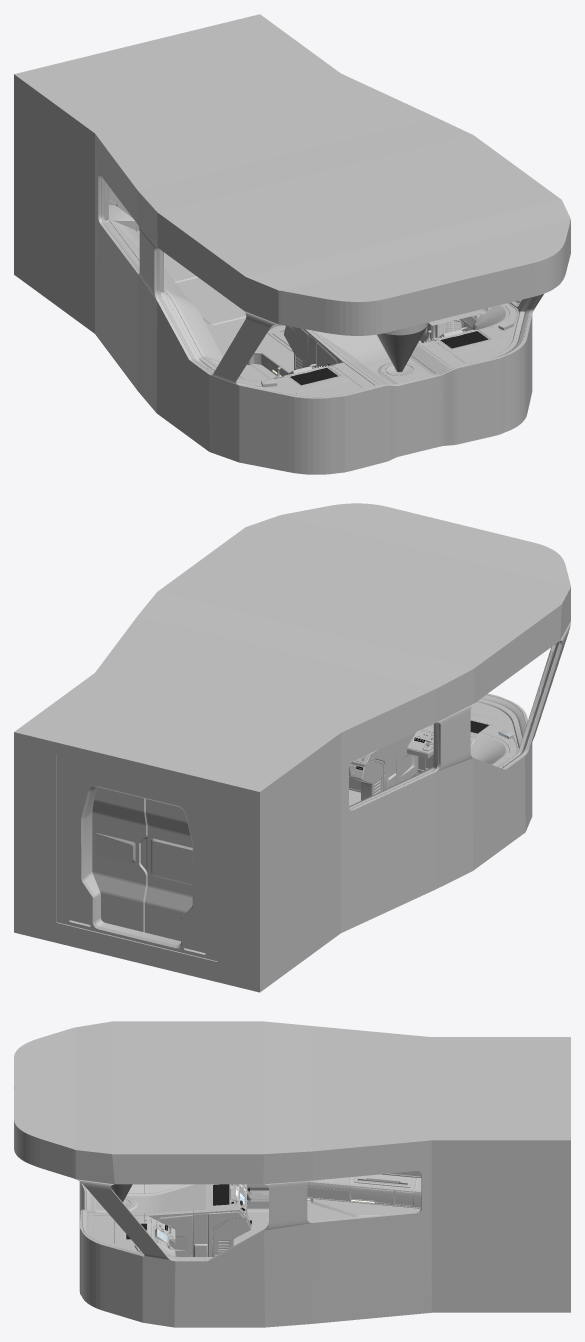
File: VA_Scifi_Cockpit_6.FBX
The picture shows the model from 3 angles, top to bottom: view 1: azimuth 30°, elevation 25°; view 2: azimuth 150°, elevation 25°; view 3: azimuth 270°, elevation 25°; orthographic projection. The views are drawn at different scales.
Visible parts, largest first — view 1: VA_Cockpit6_Body1, VA_Cockpit6_Body2, ProjectorBeam; view 2: VA_Cockpit6_Body1, DoorLeft, DoorRight, VA_Cockpit6_Body2; view 3: VA_Cockpit6_Body1, VA_Cockpit6_Body2, VA_CentralDisplay.
Boxes of the visible parts, x1=… form: VA_Cockpit6_Body1: x1=14, y1=14, x2=570, y2=474; VA_Cockpit6_Body2: x1=109, y1=205, x2=519, y2=395; ProjectorBeam: x1=377, y1=322, x2=427, y2=371; VA_Cockpit6_Body1: x1=14, y1=503, x2=570, y2=992; DoorLeft: x1=92, y1=787, x2=147, y2=932; DoorRight: x1=141, y1=799, x2=192, y2=941; VA_Cockpit6_Body2: x1=349, y1=702, x2=518, y2=807; VA_Cockpit6_Body1: x1=14, y1=1021, x2=570, y2=1327; VA_Cockpit6_Body2: x1=92, y1=1171, x2=421, y2=1259; VA_CentralDisplay: x1=212, y1=1184, x2=235, y2=1205.
Size of what is drawn, in the model's own units: 538 by 954 by 328.
